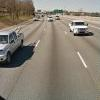Car: (64, 15, 99, 43)
